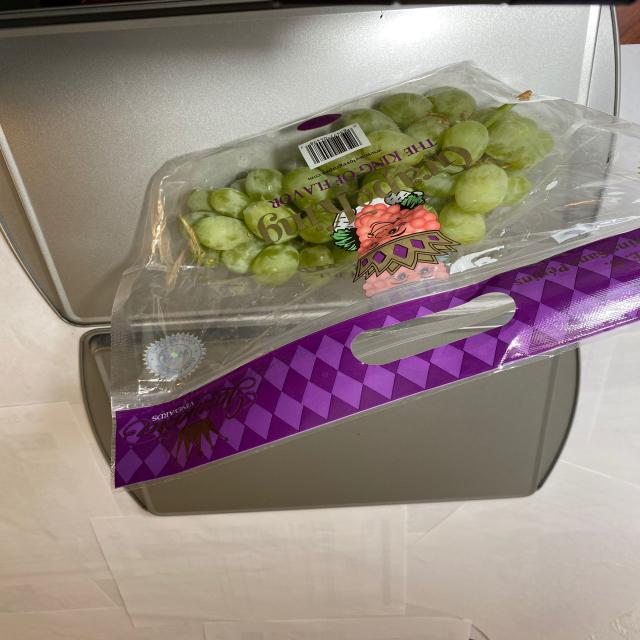grapes: (152, 84, 535, 290)
